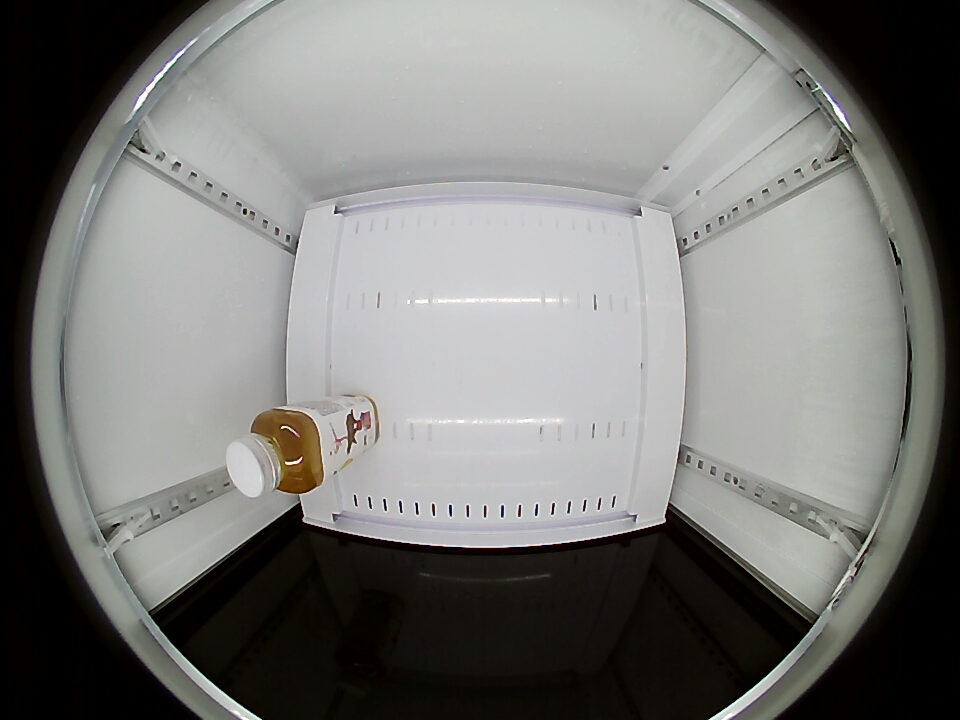chapai: (226, 407, 326, 498)
